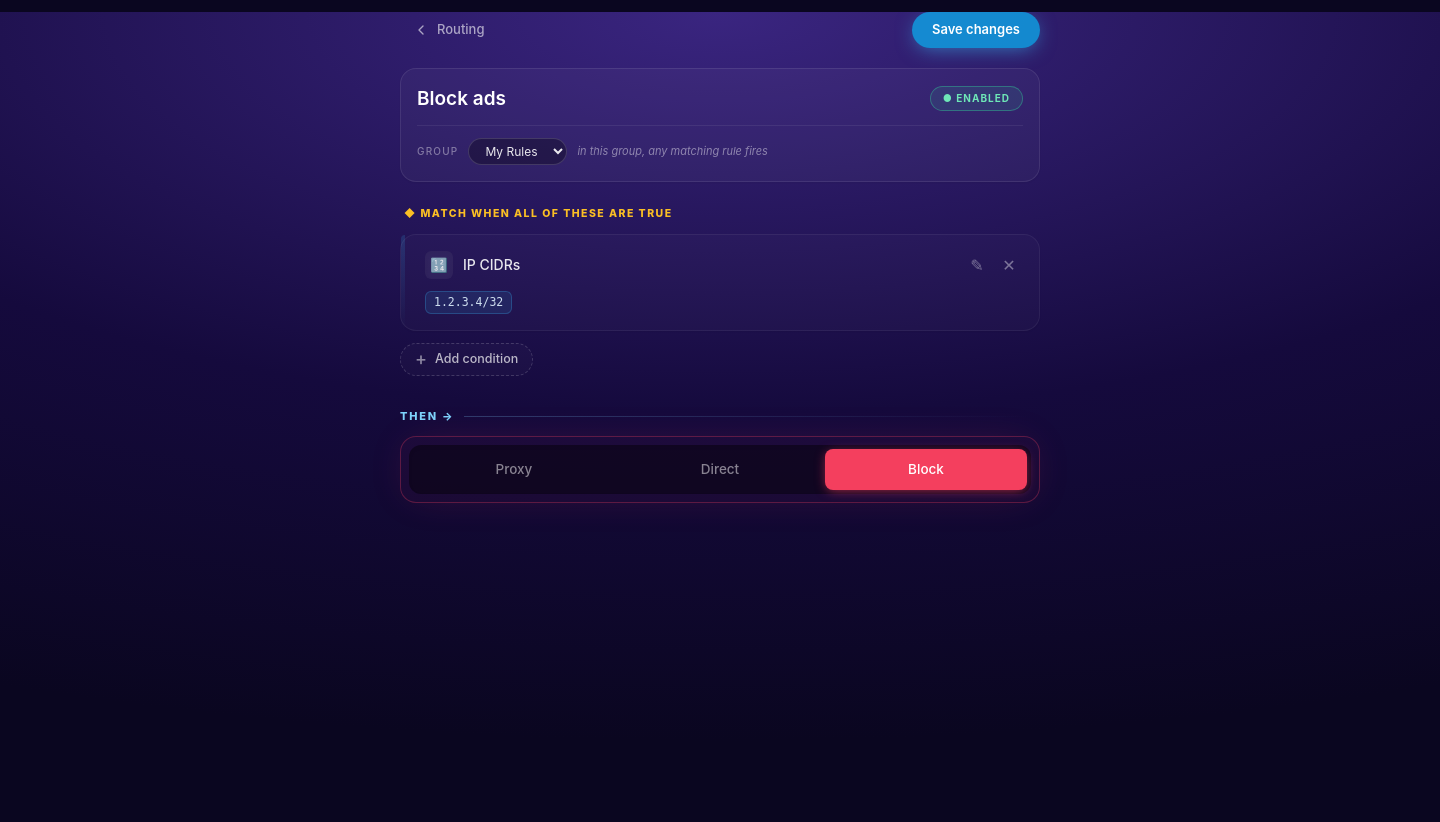
Test: RuleEditor › card ✕ removes the entire card and clears that type from the draft
Click the button named "remove ip cidrs card" at coordinates (1009, 265), box [995,251,1023,279]
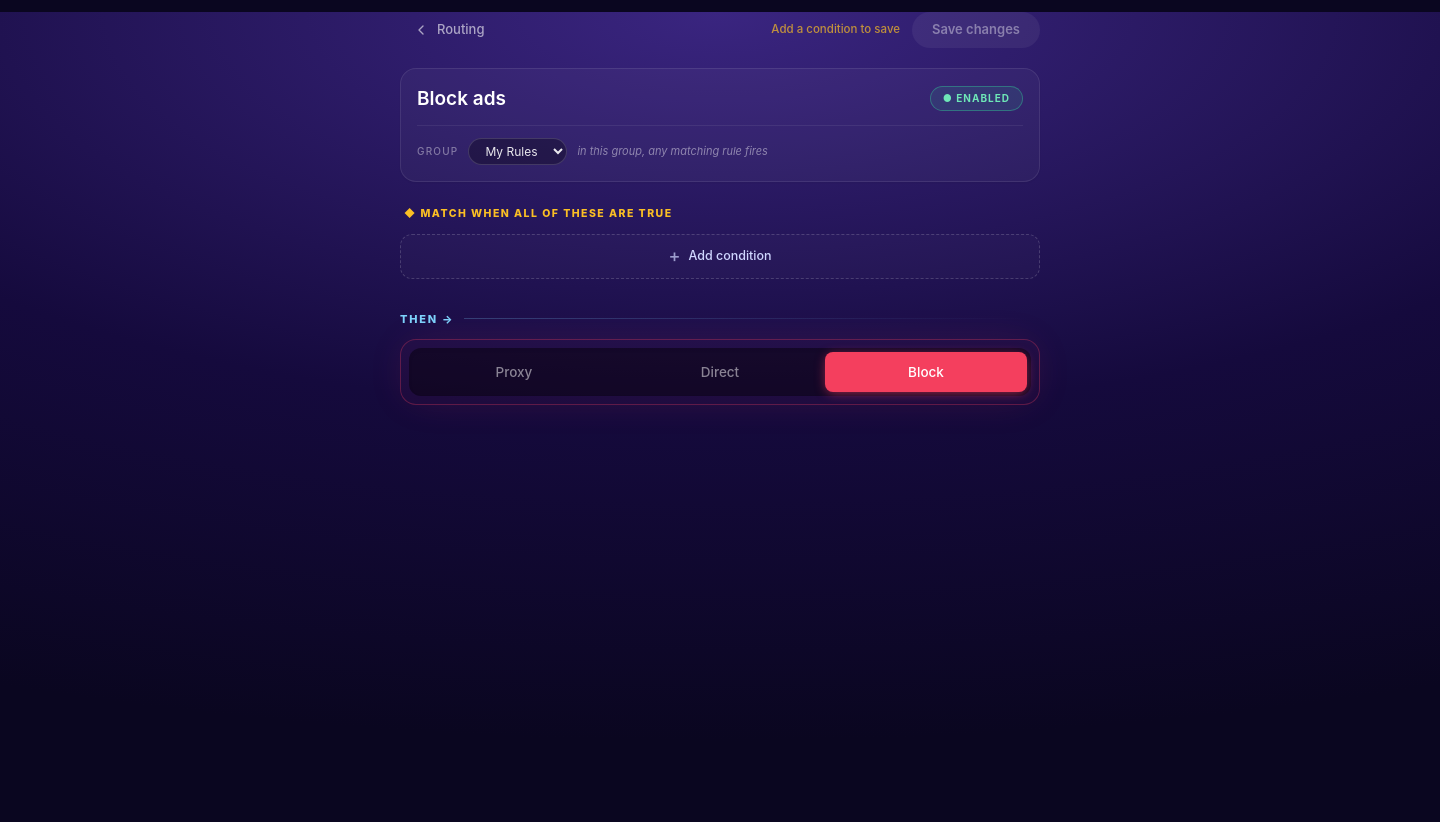
Expected: the text "IP CIDRs" is gone
Expected: the button "Save changes" is disabled, [912,12,1040,48]
